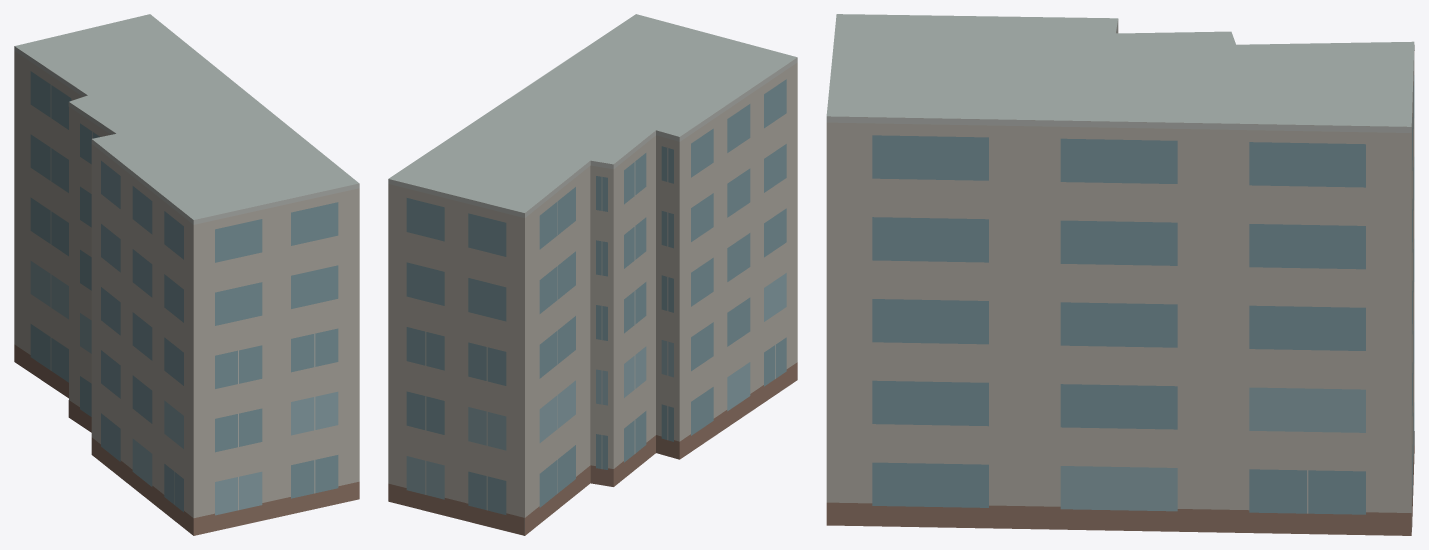
File: survey-upis-32881113.glb
3 views of the same model, side by side, from view 1: azimuth 30°, elevation 25°; view 2: azimuth 150°, elevation 25°; view 3: azimuth 270°, elevation 25° (orthographic). The views are drawn at different scales.
Visible parts, largest first — view 1: survey-upis-32881113.tmp; view 2: survey-upis-32881113.tmp; view 3: survey-upis-32881113.tmp.
Part boxes in pixels (x1=…): survey-upis-32881113.tmp: x1=14, y1=14, x2=359, y2=535; survey-upis-32881113.tmp: x1=388, y1=14, x2=797, y2=535; survey-upis-32881113.tmp: x1=826, y1=14, x2=1414, y2=535.
Bounding box in the file's own units: 9.49 × 16.01 × 20.87.
